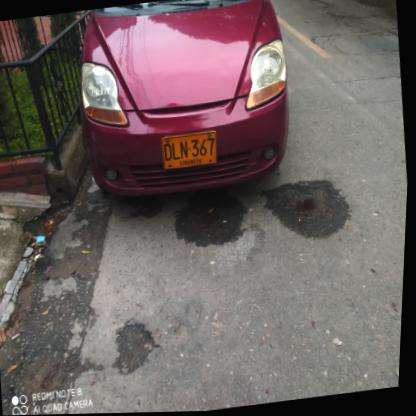placa: (158, 127, 224, 174)
